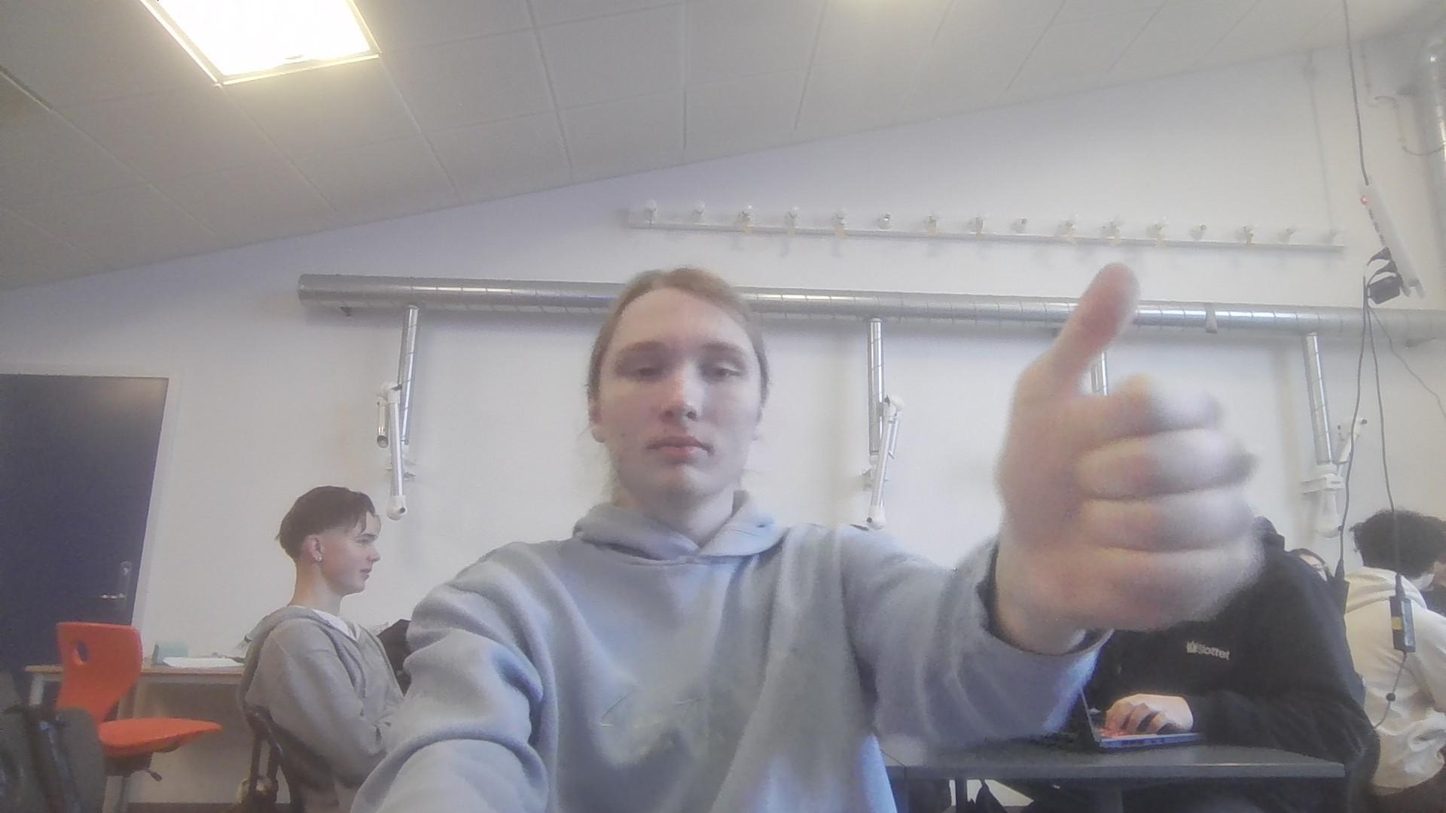thumbs up: (994, 257, 1270, 635)
